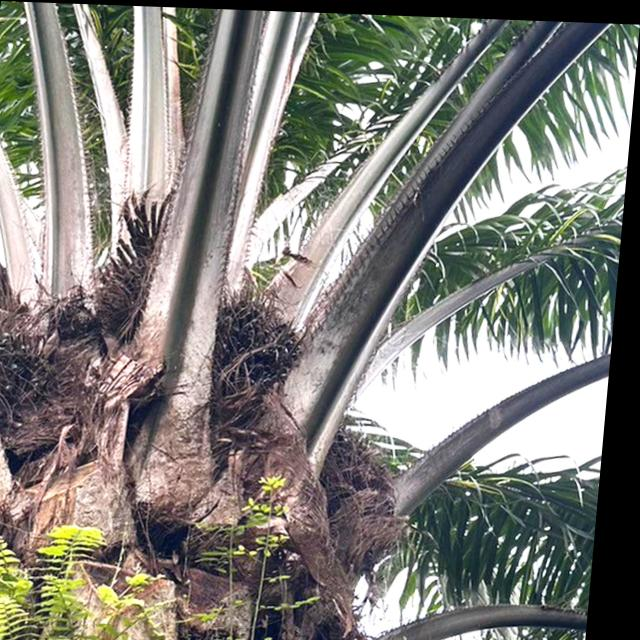unripe: (201, 276, 327, 420)
